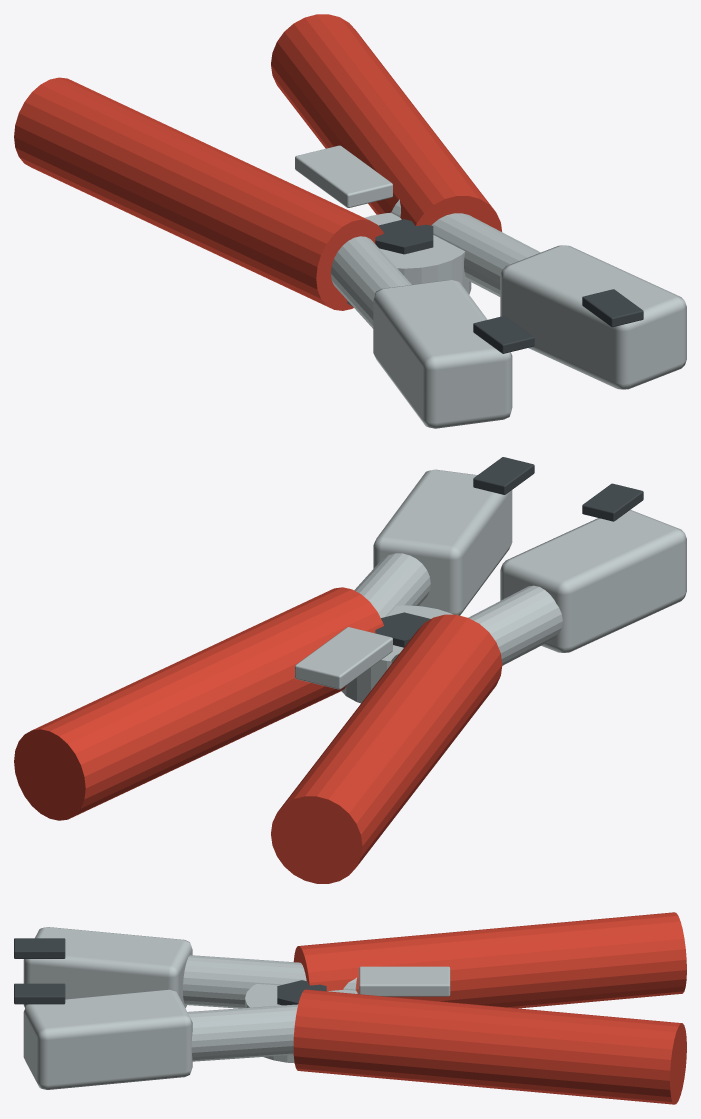
The model's file is broadcast-tower-and-relay-station-broadcast-tower-and--00e16e36__30269.glb.
3 renders of one model, top to bottom at view 1: azimuth 30°, elevation 25°; view 2: azimuth 150°, elevation 25°; view 3: azimuth 270°, elevation 25°, orthographic. The views are drawn at different scales.
Visible parts, largest first — view 1: broadcast-tower-and-relay-station-crimping-tool; view 2: broadcast-tower-and-relay-station-crimping-tool; view 3: broadcast-tower-and-relay-station-crimping-tool.
Part boxes in pixels (x1,y1,x2,y2): broadcast-tower-and-relay-station-crimping-tool: [14, 14, 686, 428]; broadcast-tower-and-relay-station-crimping-tool: [14, 457, 686, 883]; broadcast-tower-and-relay-station-crimping-tool: [14, 912, 686, 1104].
Size of the model in its own units: 0.3004 by 0.076 by 0.59.
